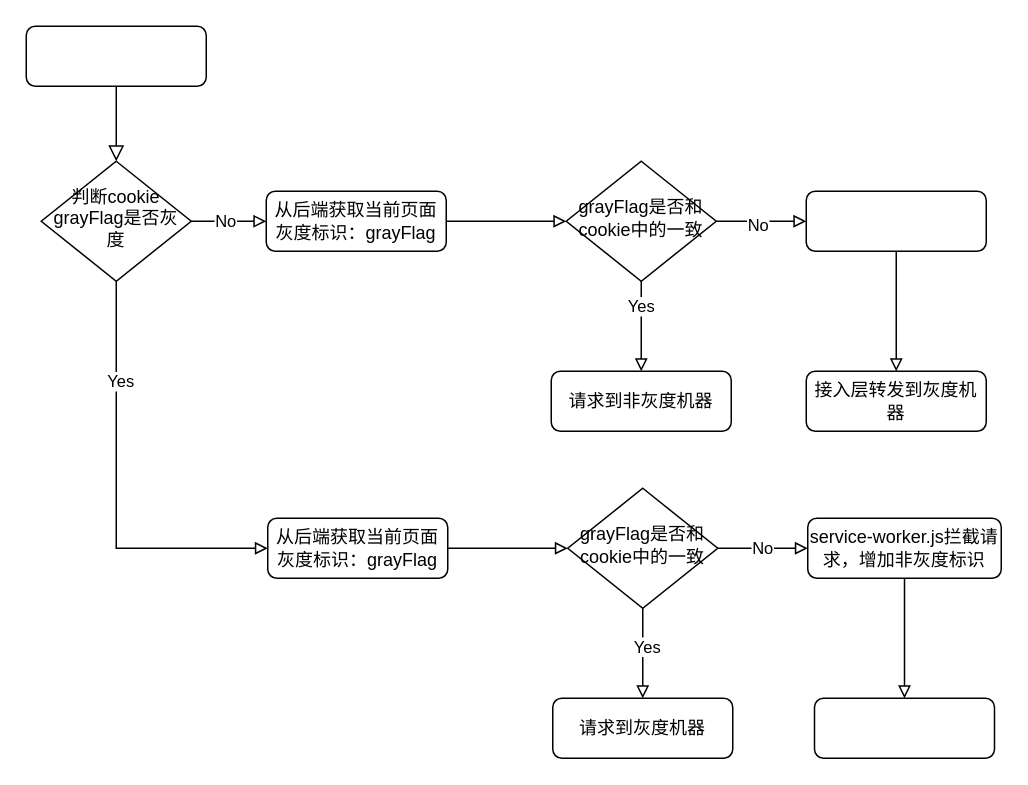
The diagram is 1028 pixels wide and 785 high, and some of its shapes have lost their labels. Each missing label, with the centre of its shape:
"service-worker.js拦截请求，增加灰度标识" belongs at [895,220].
"开始" belongs at [115,55].
"接入层转发到非灰度机器" belongs at [903,727].
